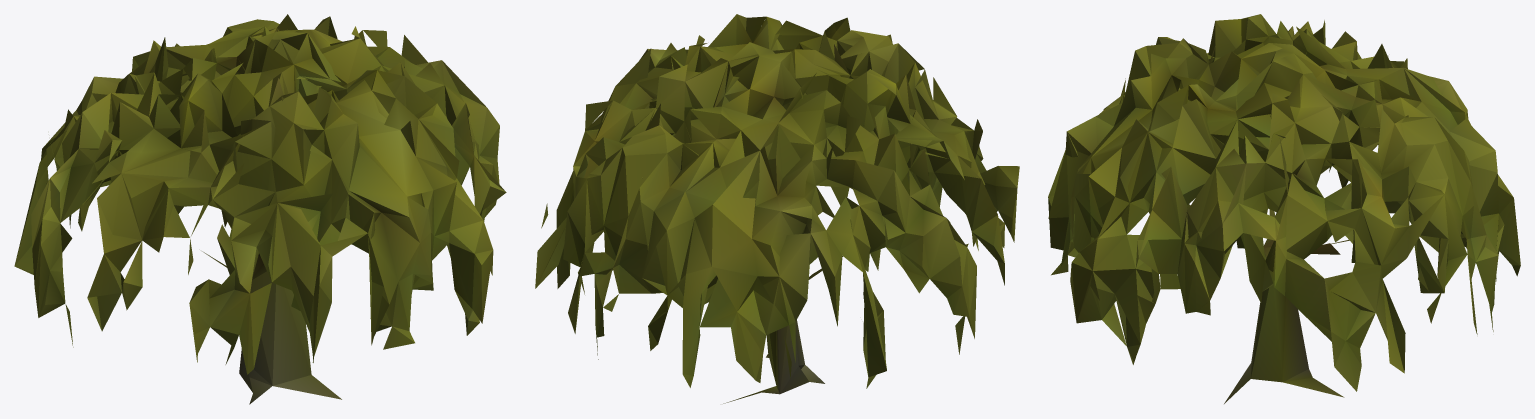
File: lib_willow.vc.glb
The picture shows the model from 3 angles, left to right: view 1: azimuth 30°, elevation 25°; view 2: azimuth 150°, elevation 25°; view 3: azimuth 270°, elevation 25°; orthographic projection. The views are drawn at different scales.
Visible parts, largest first — view 1: lib_willow; view 2: lib_willow; view 3: lib_willow.
Boxes of the visible parts, x1,y1,x2,y2 form: lib_willow: (14,14,506,404); lib_willow: (535,14,1019,403); lib_willow: (1048,14,1520,403).
Size of the model in its own units: 1.93 by 1.52 by 1.92.
